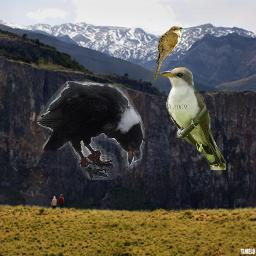Crow: (37, 81, 145, 180)
Cuckoo: (160, 66, 226, 170), (153, 26, 183, 82)
